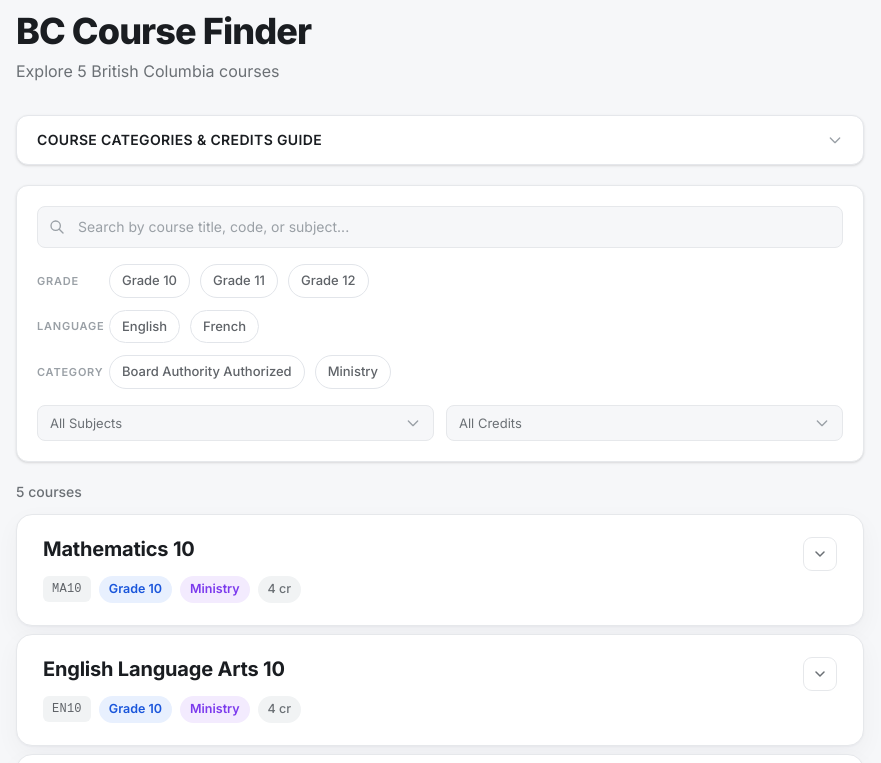
Scenario: Home page — filtering › filters by grade chip
The image size is (881, 763).
Expected: the text "Mathematics 10" is shown, [43, 537, 195, 561]
Click the button "Grade 11" at (239, 281), box [200, 264, 278, 298]
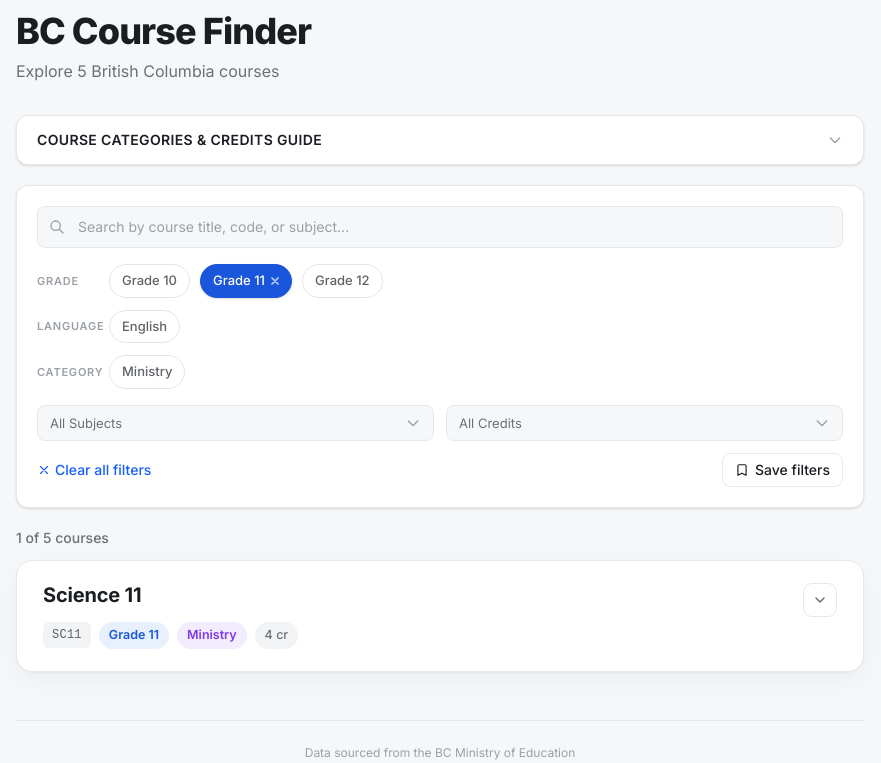
Expected: the text "Science 11" is shown, [43, 583, 141, 607]
Expected: the text "Mathematics 10" is gone
